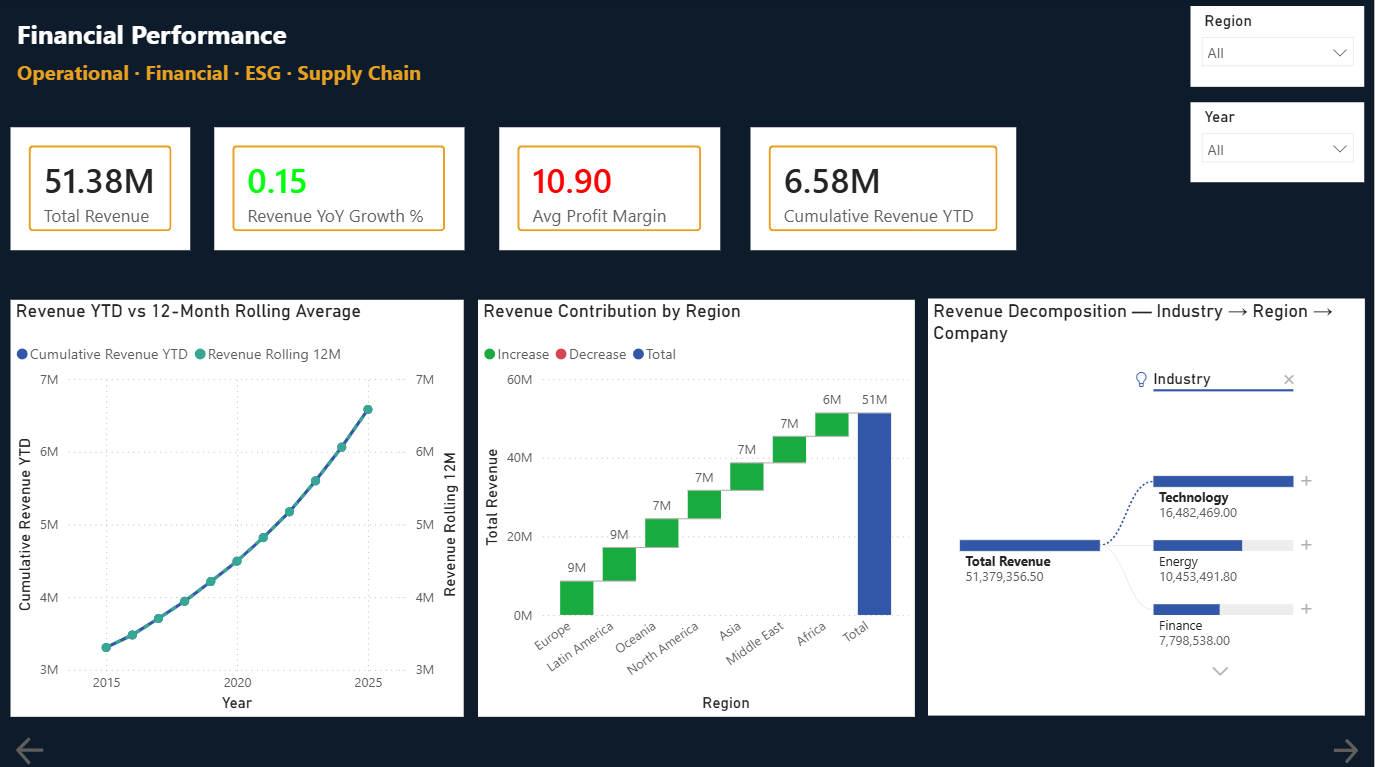

This screenshot's page, from the dashboard's own definition file:
{"tool":"powerbi","page":{"name":"Financial Performance (a)","canvas":[1280,720],"ordinal":5},"visuals":[{"type":"slicer","fields":{"Values":["Dim_Date.Year"]},"box":[1109.3,98.8,161.6,74.4],"z":0},{"type":"slicer","fields":{"Values":["Dim_Region.Region"]},"box":[1109.3,9.3,161.6,75.6],"z":1000},{"type":"textbox","box":[12.9,14.2,557.5,63.1],"z":2000},{"type":"textbox","box":[12.8,53.5,420.9,45.3],"z":3000},{"type":"cardVisual","fields":{"Data":["Revenue & Financial Performance - A.Total Revenue"]},"box":[11.1,121.8,167.3,114.4],"z":4000},{"type":"cardVisual","fields":{"Data":["Revenue & Financial Performance - A.Revenue YoY Growth %"]},"box":[201.7,121.8,232.4,114.4],"z":5000},{"type":"cardVisual","fields":{"Data":["Revenue & Financial Performance - A.Avg Profit Margin"]},"box":[466.1,121.8,205.4,114.4],"z":6000},{"type":"cardVisual","fields":{"Data":["Revenue & Financial Performance - A.Cumulative Revenue YTD"]},"box":[699.8,121.8,247.2,114.4],"z":7000},{"type":"lineChart","title":"Revenue YTD vs 12-Month Rolling Average","fields":{"Category":["Dim_Date.Year"],"Y":["Revenue & Financial Performance - A.Cumulative Revenue YTD"],"Y2":["Revenue & Financial Performance - A.Revenue Rolling 12M"]},"box":[11.6,282.6,421.9,387.7],"z":9000},{"type":"waterfallChart","title":"Revenue Contribution by Region","fields":{"Category":["Dim_Region.Region"],"Y":["Revenue & Financial Performance - A.Total Revenue"]},"box":[446.5,282.6,406,387.7],"z":10000},{"type":"decompositionTreeVisual","title":"Revenue Decomposition — Industry → Region → Company","fields":{"Analyze":["Revenue & Financial Performance - A.Total Revenue"],"ExplainBy":["Dim_Industry.Industry","Dim_Company.CompanyID","Dim_Region.Region"]},"box":[865.1,281.4,406,388],"z":11000},{"type":"actionButton","box":[1237.6,684.5,32,35.5],"z":11001},{"type":"actionButton","box":[12.8,684.9,67.4,34.9],"z":11002}]}

Visuals, with their boxes in screenshot pixels (x1, y1, x2, y2), scaled from the page's 1280x720 canvas onto the 1375x767 screenshot:
slicer - Dim_Date.Year: box=[1192, 105, 1365, 185]
slicer - Dim_Region.Region: box=[1192, 10, 1365, 90]
textbox: box=[14, 15, 613, 82]
textbox: box=[14, 57, 466, 105]
cardVisual - Revenue & Financial Performance - A.Total Revenue: box=[12, 130, 192, 252]
cardVisual - Revenue & Financial Performance - A.Revenue YoY Growth %: box=[217, 130, 466, 252]
cardVisual - Revenue & Financial Performance - A.Avg Profit Margin: box=[501, 130, 721, 252]
cardVisual - Revenue & Financial Performance - A.Cumulative Revenue YTD: box=[752, 130, 1017, 252]
"Revenue YTD vs 12-Month Rolling Average" lineChart: box=[12, 301, 466, 714]
"Revenue Contribution by Region" waterfallChart: box=[480, 301, 916, 714]
"Revenue Decomposition — Industry → Region → Company" decompositionTreeVisual: box=[929, 300, 1365, 713]
actionButton: box=[1329, 729, 1364, 766]
actionButton: box=[14, 730, 86, 766]
